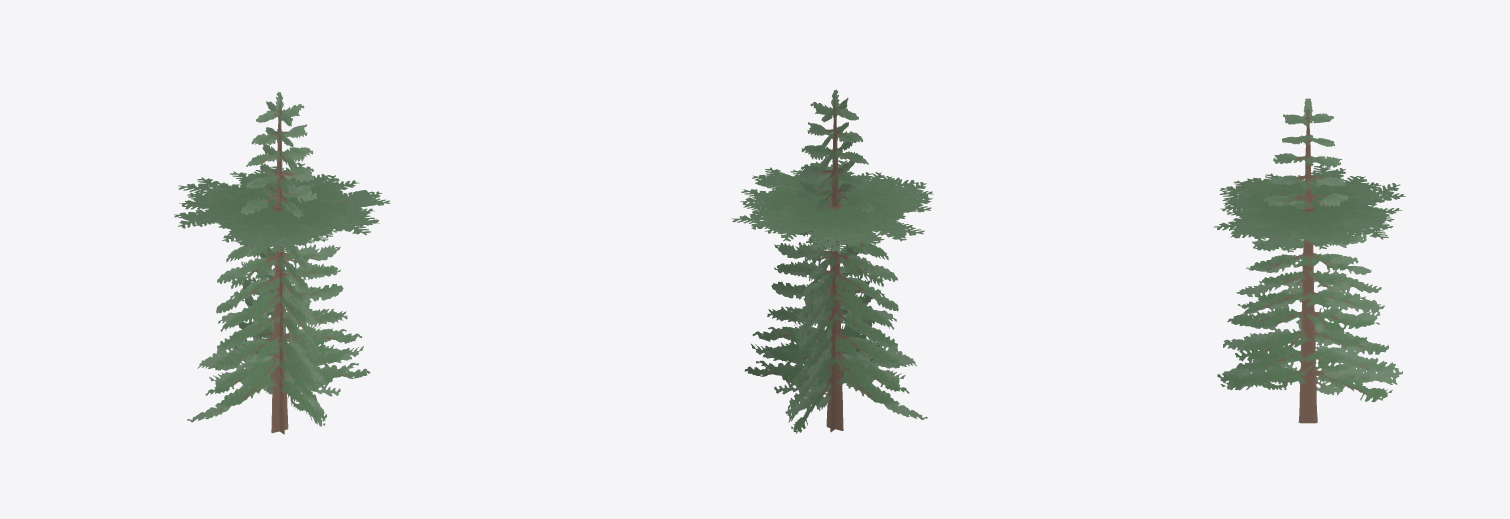
Rendered from pine_2_far.glb.
3 views of the same model, side by side, from view 1: azimuth 30°, elevation 25°; view 2: azimuth 150°, elevation 25°; view 3: azimuth 270°, elevation 25° (orthographic). The views are drawn at different scales.
Parts seen in each view (by area): view 1: pine_2_far; view 2: pine_2_far; view 3: pine_2_far.
Boxes of the visible parts, <box> form: pine_2_far: <box>174,91,390,434</box>; pine_2_far: <box>732,89,933,433</box>; pine_2_far: <box>1213,98,1405,423</box>.
Size of the model in its own units: 11.98 by 11.98 by 11.98.
1 material, 1 textured.
